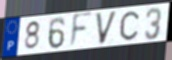3: (144, 6, 163, 41)
6: (48, 16, 67, 51)
8: (23, 20, 41, 51)
C: (119, 10, 140, 42)
F: (68, 11, 94, 51)
V: (94, 10, 119, 47)
